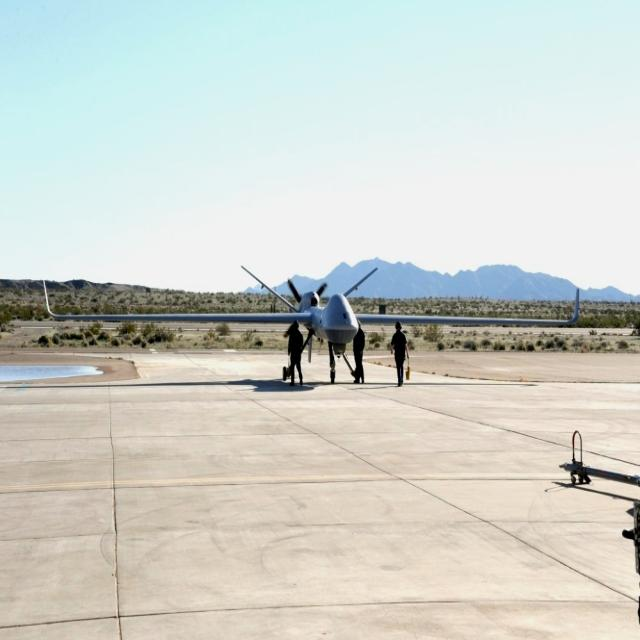MIL_Plane: (42, 265, 580, 384)
